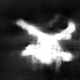plane: (13, 17, 79, 71)
